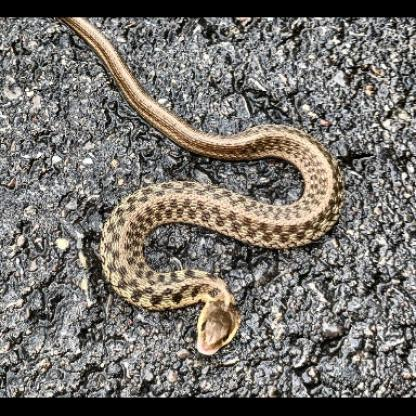Snake: (78, 66, 347, 357)
